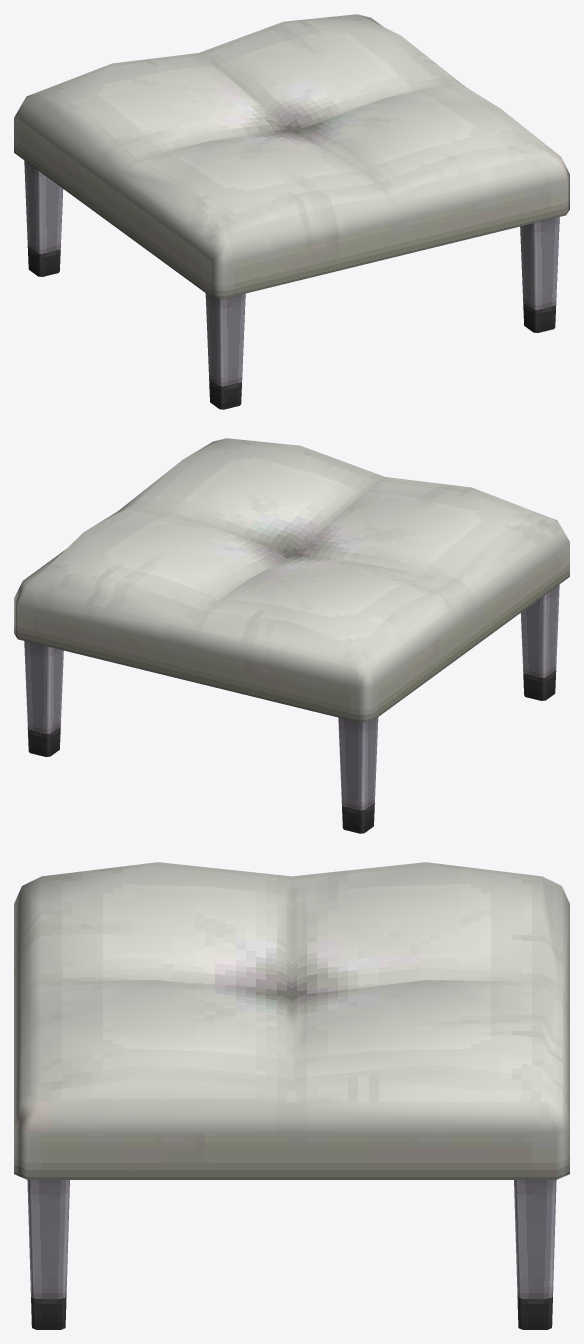
The model's file is rmk_mse_stool.dae.
3 renders of one model, top to bottom at view 1: azimuth 30°, elevation 25°; view 2: azimuth 150°, elevation 25°; view 3: azimuth 270°, elevation 25°, orthographic. The views are drawn at different scales.
Parts seen in each view (by area): view 1: rmk_mse_stool; view 2: rmk_mse_stool; view 3: rmk_mse_stool.
Boxes of the visible parts, bbox=[...] form: rmk_mse_stool: bbox=[14, 14, 569, 409]; rmk_mse_stool: bbox=[14, 438, 569, 833]; rmk_mse_stool: bbox=[14, 862, 569, 1329].
Size of the model in its own units: 32 by 16 by 32.
Materials: 1 (1 with a texture image).
